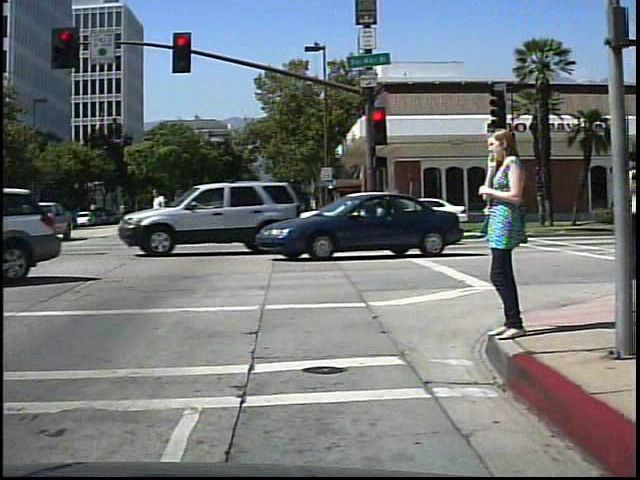person: (474, 118, 533, 345)
